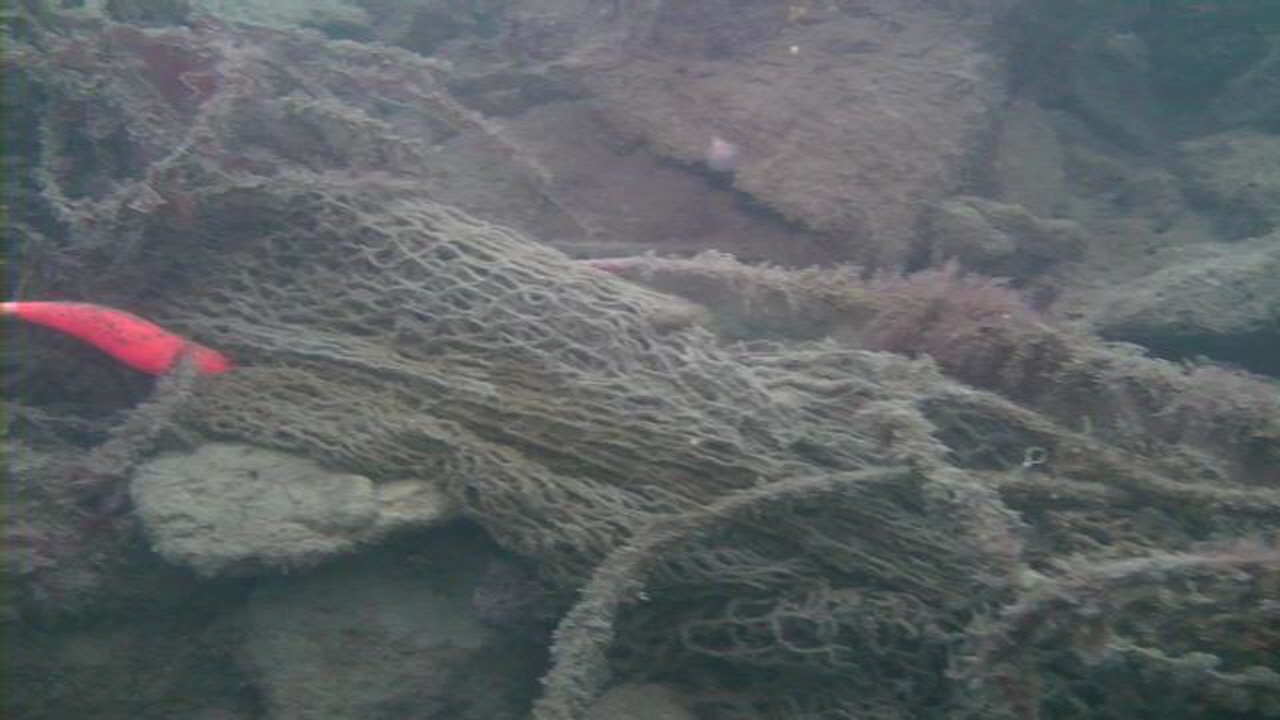fish net: (147, 186, 1030, 674)
